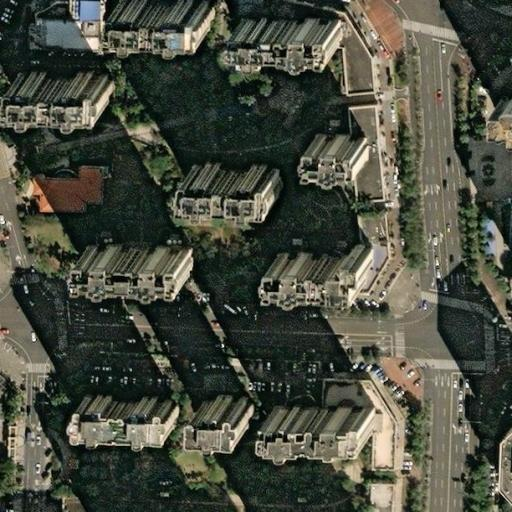building: (348, 109, 390, 298), (32, 3, 107, 54), (243, 22, 343, 58), (317, 379, 389, 426), (275, 248, 370, 283), (274, 404, 376, 436), (15, 72, 105, 107), (76, 395, 173, 427), (91, 247, 194, 277), (31, 169, 98, 215), (189, 165, 274, 200), (118, 0, 202, 31), (312, 136, 366, 164), (201, 391, 252, 420), (251, 498, 350, 512), (496, 431, 512, 498), (59, 484, 85, 512), (362, 487, 387, 512), (499, 199, 512, 247), (491, 93, 512, 119), (317, 121, 343, 136), (284, 241, 303, 255), (176, 247, 194, 258), (130, 247, 158, 254), (89, 72, 105, 83), (214, 165, 243, 171), (15, 72, 30, 83), (44, 72, 75, 77), (101, 247, 111, 257), (259, 165, 274, 171), (189, 165, 199, 171)
